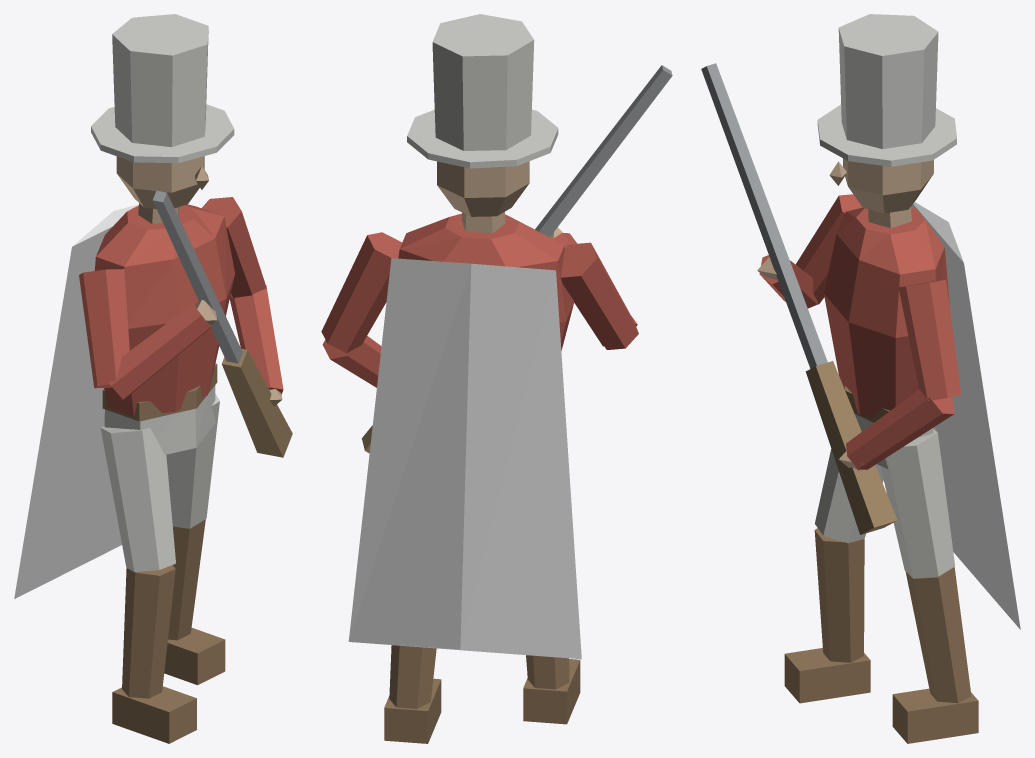
The model's file is janissary.glb.
The picture shows the model from 3 angles, left to right: view 1: azimuth 30°, elevation 25°; view 2: azimuth 150°, elevation 25°; view 3: azimuth 270°, elevation 25°; orthographic projection. The views are drawn at different scales.
Parts seen in each view (by area): view 1: LOD0; view 2: LOD0; view 3: LOD0.
Part boxes in pixels (x1,y1,x2,y2): LOD0: (14, 14, 292, 743); LOD0: (321, 14, 672, 743); LOD0: (701, 14, 1020, 743).
Size of what is drawn, in the model's own units: 0.4283 by 1.08 by 0.4659.
